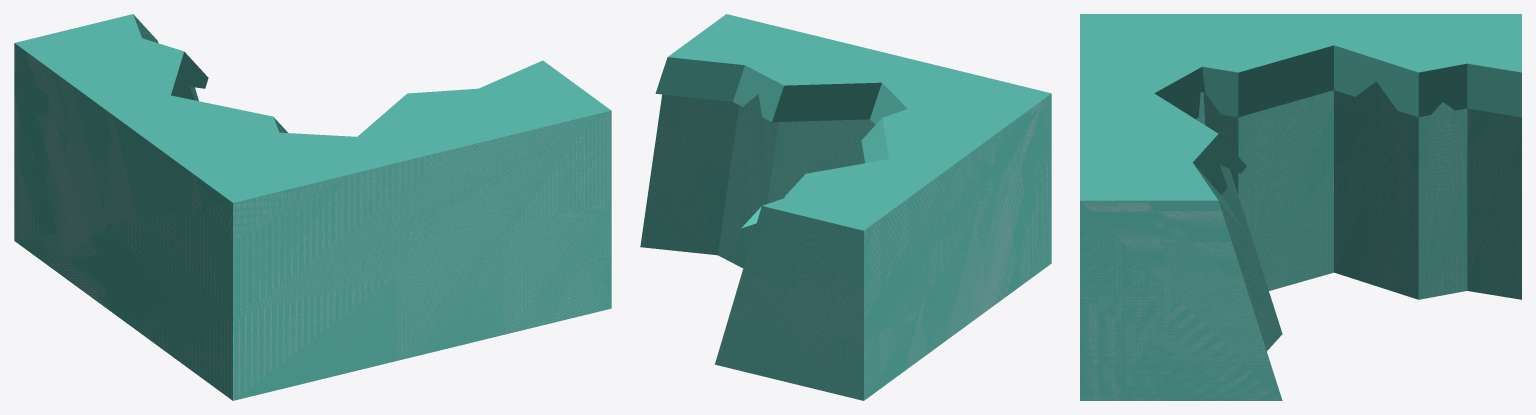
The model's file is cliffGrey_halfCornerInner.obj.
3 views of the same model, side by side, from view 1: azimuth 30°, elevation 25°; view 2: azimuth 150°, elevation 25°; view 3: azimuth 270°, elevation 25° (orthographic). The views are drawn at different scales.
Parts seen in each view (by area): view 1: cliffGrey_halfCornerInner; view 2: cliffGrey_halfCornerInner; view 3: cliffGrey_halfCornerInner.
Boxes of the visible parts, left/top/right/bottom form: cliffGrey_halfCornerInner: left=14, top=14, right=611, bottom=400; cliffGrey_halfCornerInner: left=640, top=14, right=1051, bottom=400; cliffGrey_halfCornerInner: left=1080, top=14, right=1521, bottom=400.
Bounding box in the file's own units: 10 × 5 × 10.
